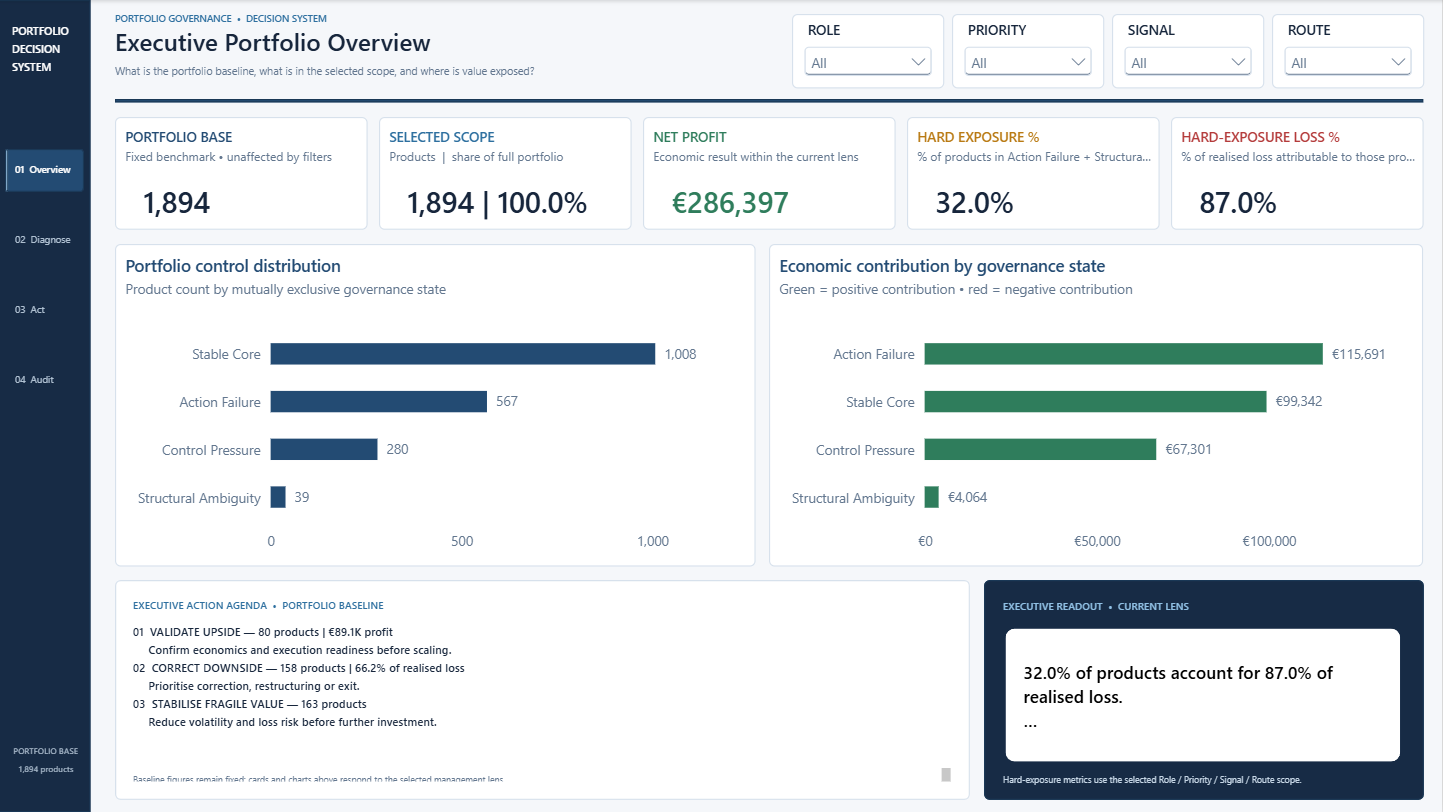

Layout of this report page (visuals, bound fields, positions):
{"tool":"powerbi","page":{"name":"01 Executive Portfolio Overview","canvas":[1280,720],"ordinal":0},"visuals":[{"type":"shape","box":[0,0,82,720],"z":1000},{"type":"textbox","box":[12,18,60,62],"z":2000},{"type":"shape","box":[6,132,70,38],"z":3000},{"type":"shape","box":[6,132,3,38],"z":4000},{"type":"textbox","box":[15,140,57,20],"z":5000},{"type":"textbox","box":[15,202,57,20],"z":6000},{"type":"textbox","box":[15,264,57,20],"z":7000},{"type":"textbox","box":[15,326,57,20],"z":8000},{"type":"textbox","box":[12,655,60,42],"z":9000},{"type":"textbox","box":[104,6,560,16],"z":10000},{"type":"textbox","box":[104,22,575,31],"z":11000},{"type":"textbox","box":[104,53,575,22],"z":12000},{"type":"slicer","fields":{"Values":["Products.Analytical Role"]},"box":[704,12,135,66],"z":13000},{"type":"slicer","fields":{"Values":["Products.Priority Zone"]},"box":[846,12,135,66],"z":14000},{"type":"slicer","fields":{"Values":["Products.Primary Signal"]},"box":[988,12,135,66],"z":15000},{"type":"slicer","fields":{"Values":["Products.Final Intervention"]},"box":[1130,12,135,66],"z":16000},{"type":"shape","box":[104,88,1160,3],"z":17000},{"type":"cardVisual","title":"PORTFOLIO BASE","fields":{"Data":["Products.Portfolio Products"]},"box":[104,104,224,100],"z":18000},{"type":"cardVisual","title":"SELECTED SCOPE","fields":{"Data":["Products.Selected Scope"]},"box":[338,104,224,100],"z":19000},{"type":"cardVisual","title":"NET PROFIT","fields":{"Data":["Products.Portfolio Profit"]},"box":[572,104,224,100],"z":20000},{"type":"cardVisual","title":"HARD EXPOSURE %","fields":{"Data":["Products.Hard Exposure %"]},"box":[806,104,224,100],"z":21000},{"type":"cardVisual","title":"HARD-EXPOSURE LOSS %","fields":{"Data":["Products.Hard-Exposure Loss %"]},"box":[1040,104,224,100],"z":22000},{"type":"barChart","title":"Portfolio control distribution","fields":{"Category":["Products.Governance State"],"Y":["Products.Product Count"]},"box":[104,216,568,286],"z":23000},{"type":"barChart","title":"Economic contribution by governance state","fields":{"Category":["Products.Governance State"],"Y":["Products.Portfolio Profit"]},"box":[684,216,580,286],"z":24000},{"type":"shape","box":[104,514,758,184],"z":25000},{"type":"textbox","box":[120,527,725,18],"z":26000},{"type":"textbox","box":[120,551,725,128],"z":27000},{"type":"textbox","box":[120,681,725,12],"z":28000},{"type":"shape","box":[874,514,390,184],"z":29000},{"type":"textbox","box":[891,528,354,18],"z":30000},{"type":"cardVisual","fields":{"Data":["Products.Executive Lens Readout"]},"box":[889,553,358,126],"z":31000},{"type":"textbox","box":[891,681,354,12],"z":32000}]}

Visuals, with their boxes on the page's 1280x720 design canvas (x1, y1, x2, y2). These are canvas units, not pixel positions in the 1443x812 screenshot, which may show the page scaled, cropped or inside an application window:
shape: left=0, top=0, right=82, bottom=720
textbox: left=12, top=18, right=72, bottom=80
shape: left=6, top=132, right=76, bottom=170
shape: left=6, top=132, right=9, bottom=170
textbox: left=15, top=140, right=72, bottom=160
textbox: left=15, top=202, right=72, bottom=222
textbox: left=15, top=264, right=72, bottom=284
textbox: left=15, top=326, right=72, bottom=346
textbox: left=12, top=655, right=72, bottom=697
textbox: left=104, top=6, right=664, bottom=22
textbox: left=104, top=22, right=679, bottom=53
textbox: left=104, top=53, right=679, bottom=75
slicer - Products.Analytical Role: left=704, top=12, right=839, bottom=78
slicer - Products.Priority Zone: left=846, top=12, right=981, bottom=78
slicer - Products.Primary Signal: left=988, top=12, right=1123, bottom=78
slicer - Products.Final Intervention: left=1130, top=12, right=1265, bottom=78
shape: left=104, top=88, right=1264, bottom=91
"PORTFOLIO BASE" cardVisual: left=104, top=104, right=328, bottom=204
"SELECTED SCOPE" cardVisual: left=338, top=104, right=562, bottom=204
"NET PROFIT" cardVisual: left=572, top=104, right=796, bottom=204
"HARD EXPOSURE %" cardVisual: left=806, top=104, right=1030, bottom=204
"HARD-EXPOSURE LOSS %" cardVisual: left=1040, top=104, right=1264, bottom=204
"Portfolio control distribution" barChart: left=104, top=216, right=672, bottom=502
"Economic contribution by governance state" barChart: left=684, top=216, right=1264, bottom=502
shape: left=104, top=514, right=862, bottom=698
textbox: left=120, top=527, right=845, bottom=545
textbox: left=120, top=551, right=845, bottom=679
textbox: left=120, top=681, right=845, bottom=693
shape: left=874, top=514, right=1264, bottom=698
textbox: left=891, top=528, right=1245, bottom=546
cardVisual - Products.Executive Lens Readout: left=889, top=553, right=1247, bottom=679
textbox: left=891, top=681, right=1245, bottom=693
